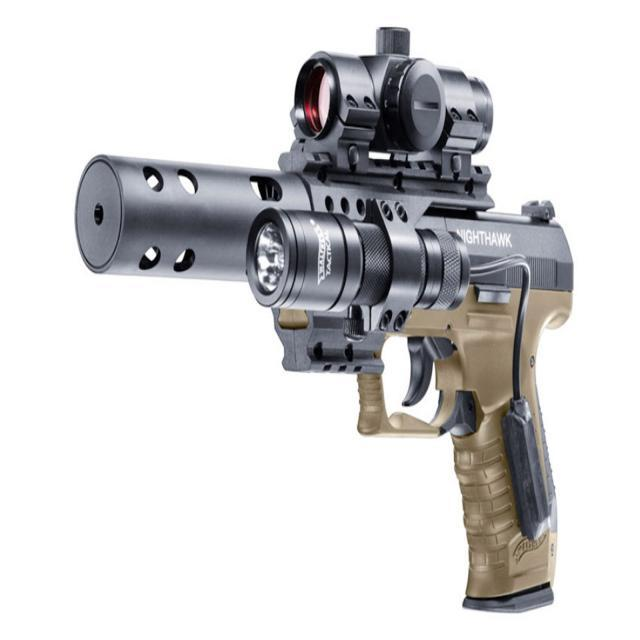Pistol: (56, 15, 609, 635)
